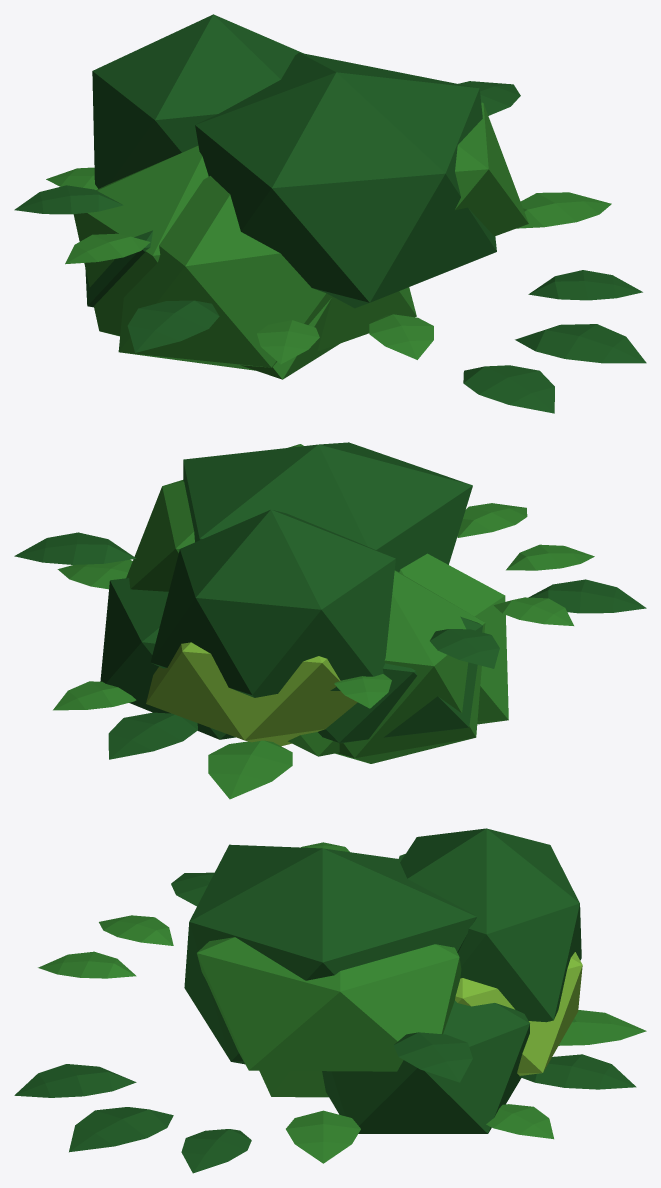
File: jungle_bush_dense.glb
3 renders of one model, top to bottom at view 1: azimuth 30°, elevation 25°; view 2: azimuth 150°, elevation 25°; view 3: azimuth 270°, elevation 25°, orthographic. The views are drawn at different scales.
Visible parts, largest first — view 1: jungle_bush_dense; view 2: jungle_bush_dense; view 3: jungle_bush_dense.
Boxes of the visible parts, left/top/right/bottom form: jungle_bush_dense: left=14, top=14, right=646, bottom=413; jungle_bush_dense: left=14, top=442, right=646, bottom=799; jungle_bush_dense: left=14, top=828, right=646, bottom=1173.
Bounding box in the file's own units: 3.14 × 1.6 × 3.31.
